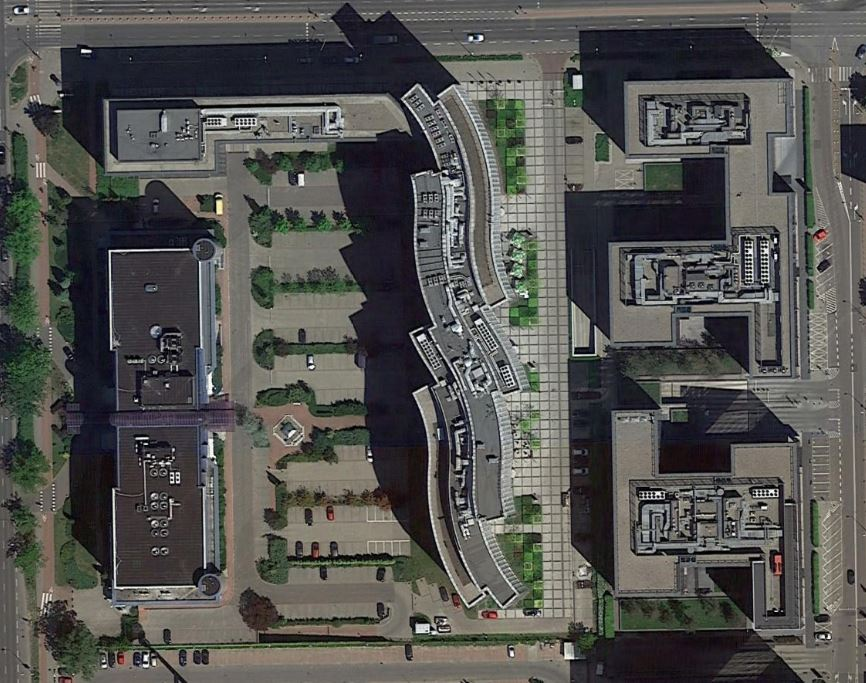block of flats: (397, 78, 534, 614), (597, 58, 809, 385), (104, 231, 231, 614), (610, 404, 814, 642), (96, 84, 349, 184)
